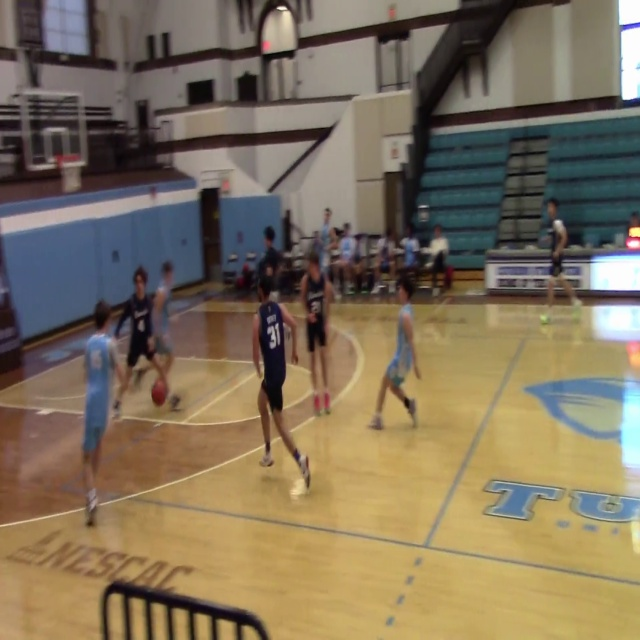Basketball: (151, 378, 167, 406)
